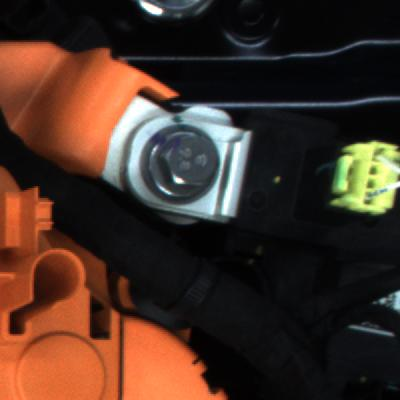nut_b: (132, 117, 225, 204)
